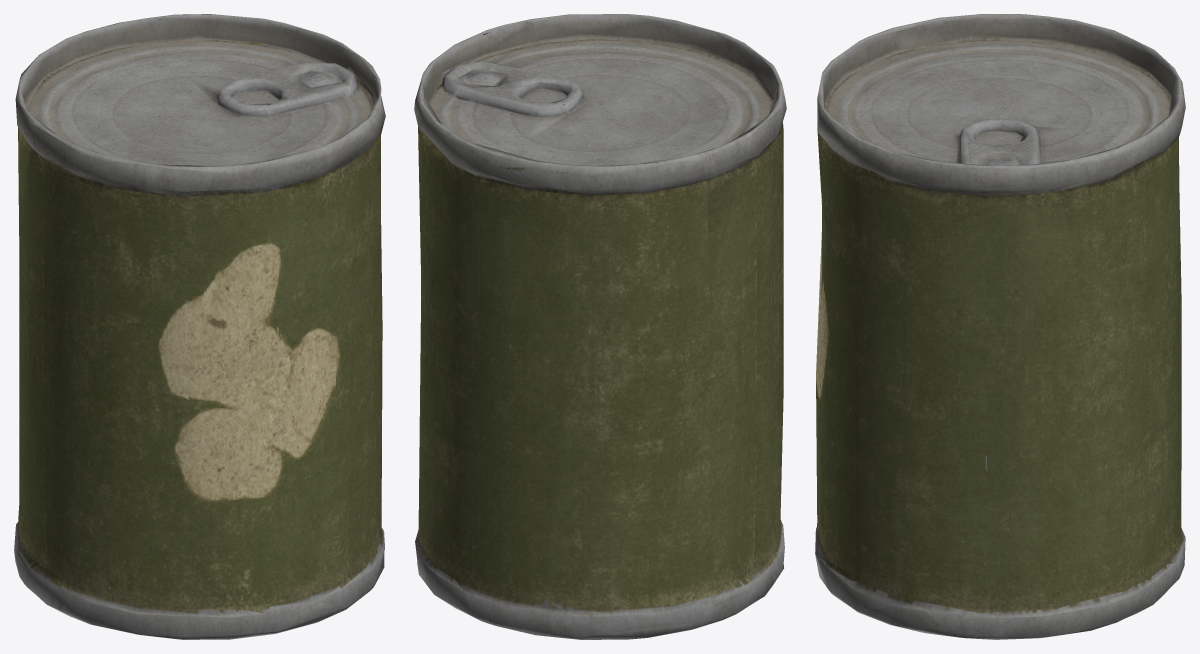
File: canned_food.glb
3 renders of one model, left to right at view 1: azimuth 30°, elevation 25°; view 2: azimuth 150°, elevation 25°; view 3: azimuth 270°, elevation 25°, orthographic.
Size of the model in its own units: 0.085 by 0.12 by 0.085.
1 material, 1 textured.
